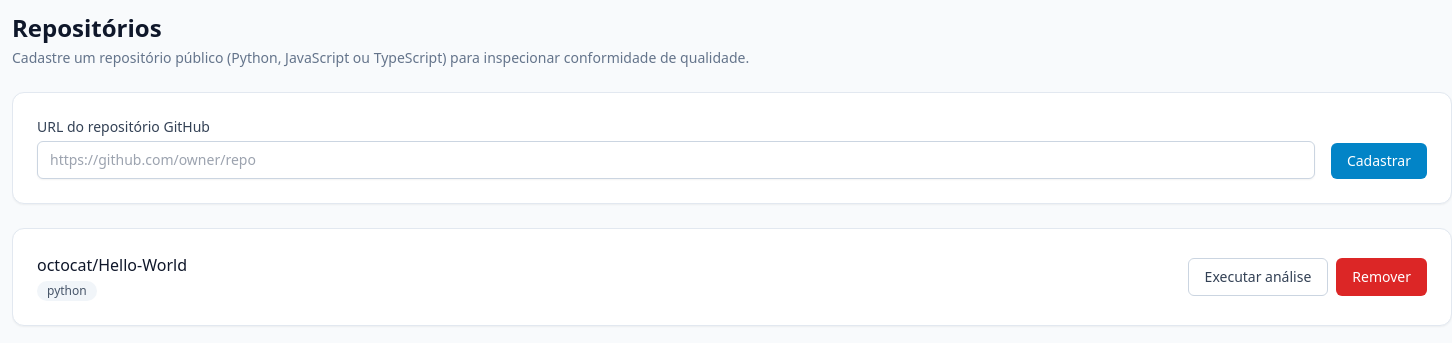
Test: RepositoriesPage › removes a repository
Check: the text "octocat/Hello-World" is shown, box top-left (37, 253), bottom-right (187, 277)
Click the button "Remover".
click(1382, 277)  # box top-left (1336, 258), bottom-right (1427, 296)
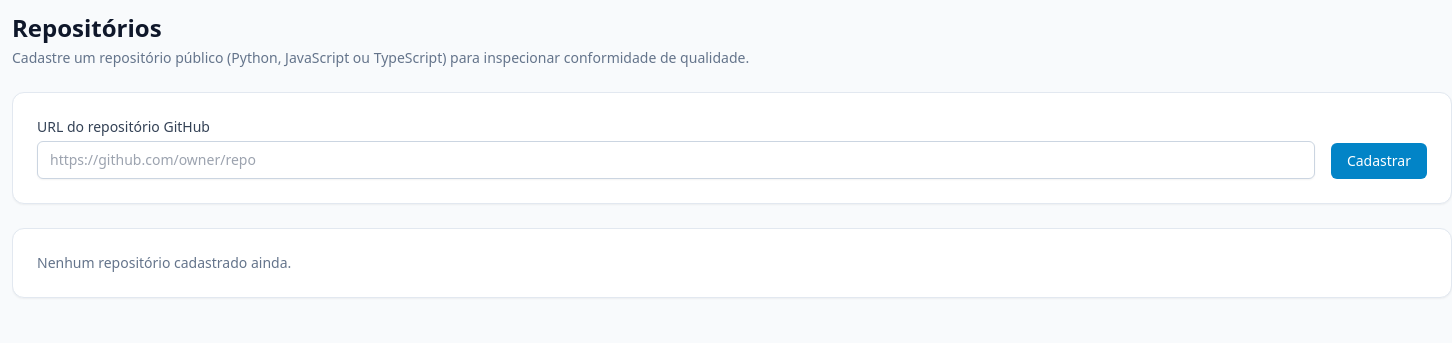
Check: the text "Nenhum repositório cadastrado ainda." is shown, box top-left (12, 228), bottom-right (1451, 298)
